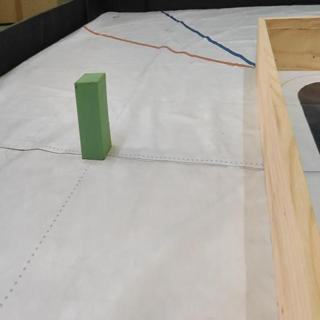greenbox: (74, 72, 111, 160)
